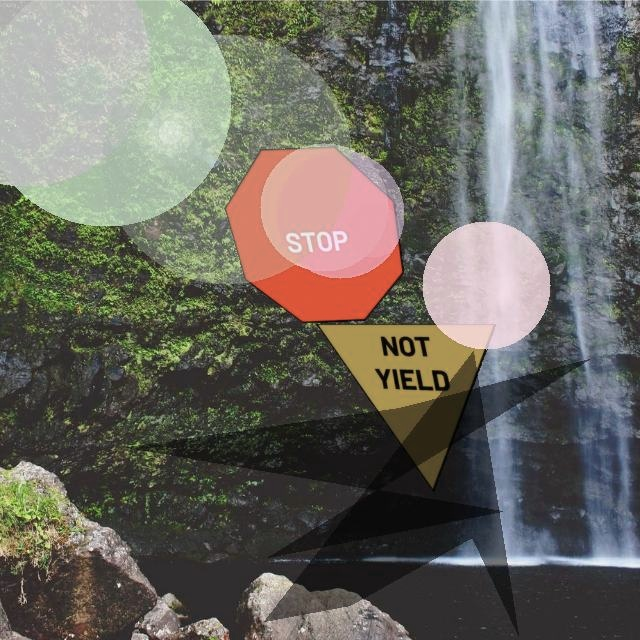NOT_YIELD: (316, 323, 496, 492)
STOP: (224, 146, 404, 323)
